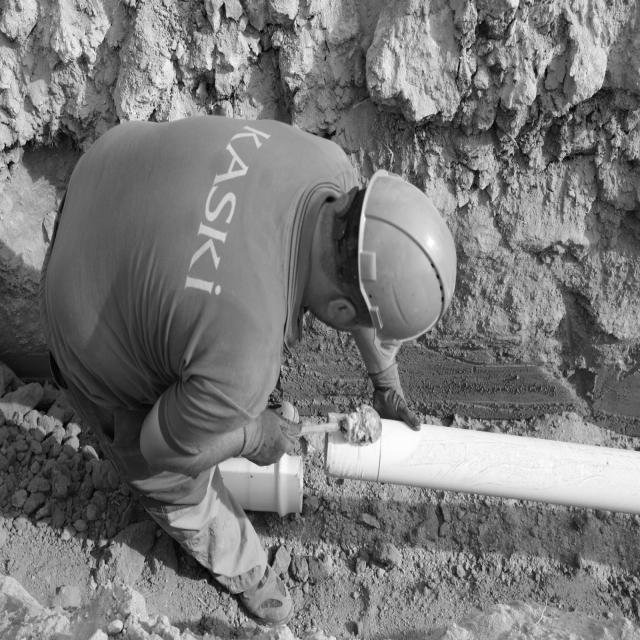safety_helmet: (357, 171, 459, 358)
